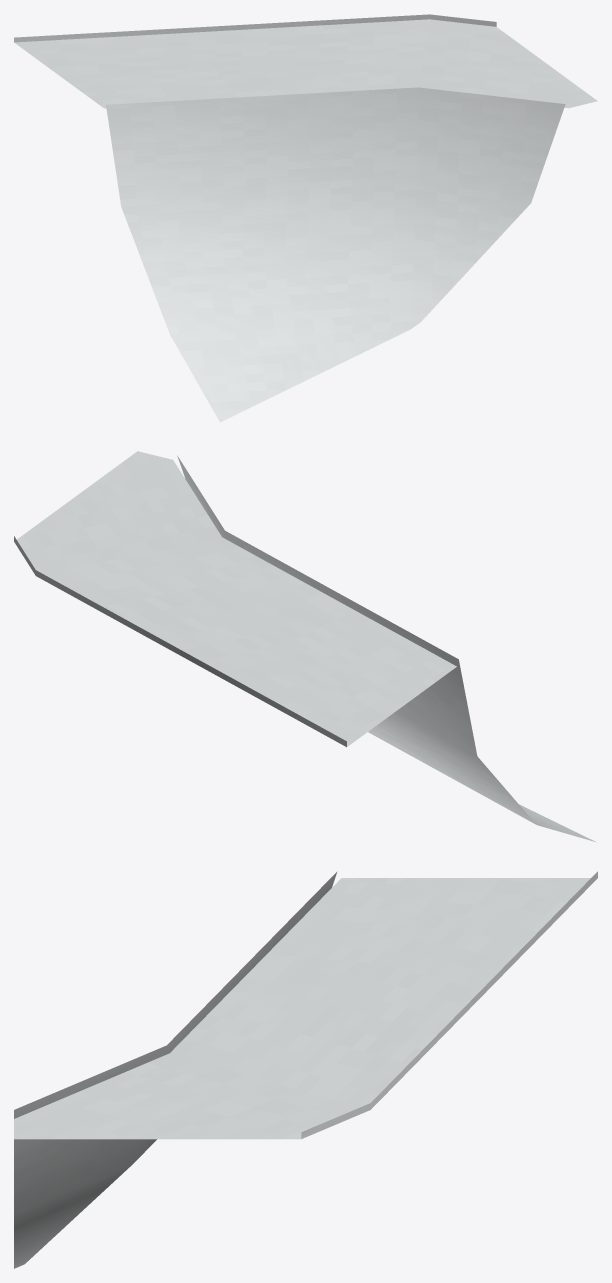
File: bowl_medium_0_3_0.obj
The picture shows the model from 3 angles, top to bottom: view 1: azimuth 30°, elevation 25°; view 2: azimuth 150°, elevation 25°; view 3: azimuth 270°, elevation 25°; orthographic projection. The views are drawn at different scales.
Parts seen in each view (by area): view 1: bowl_medium_0_3_0; view 2: bowl_medium_0_3_0; view 3: bowl_medium_0_3_0.
Part boxes in pixels (x1,y1,x2,y2): bowl_medium_0_3_0: (14,14,597,422); bowl_medium_0_3_0: (14,451,596,842); bowl_medium_0_3_0: (14,871,597,1268).
Bounding box in the file's own units: 3 × 1.78 × 2.83.
